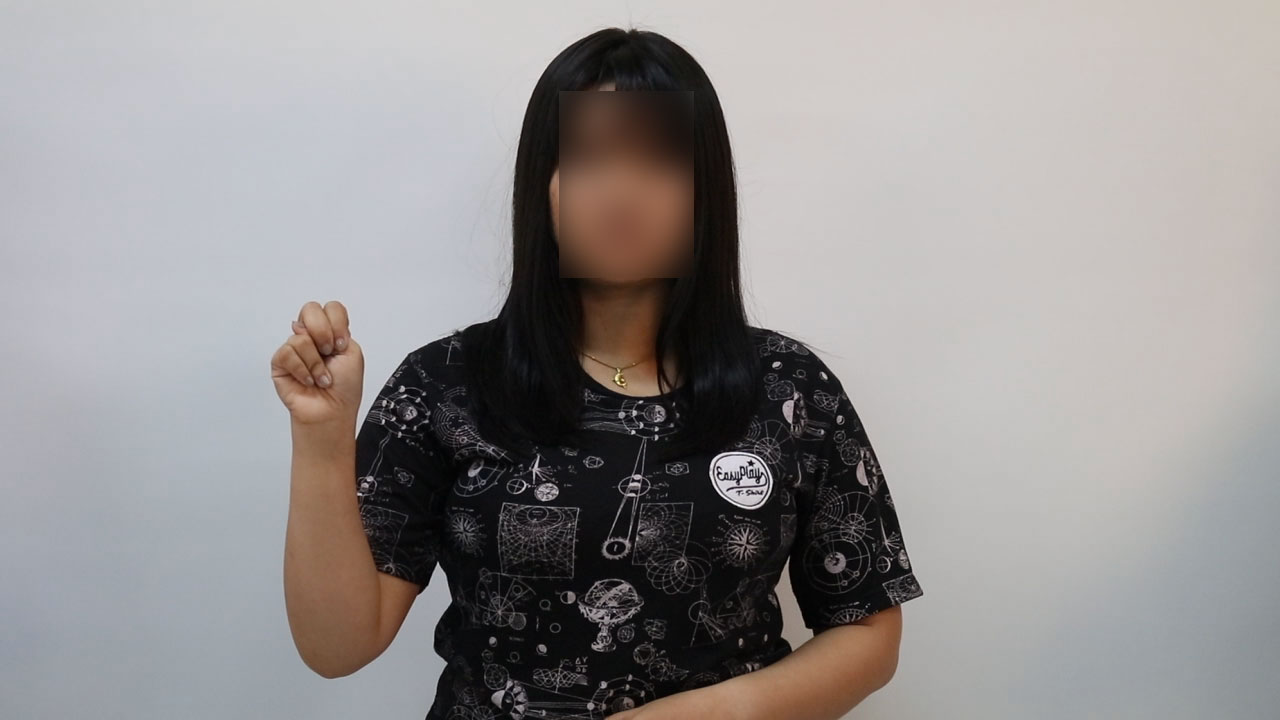nor: (265, 293, 376, 437)
